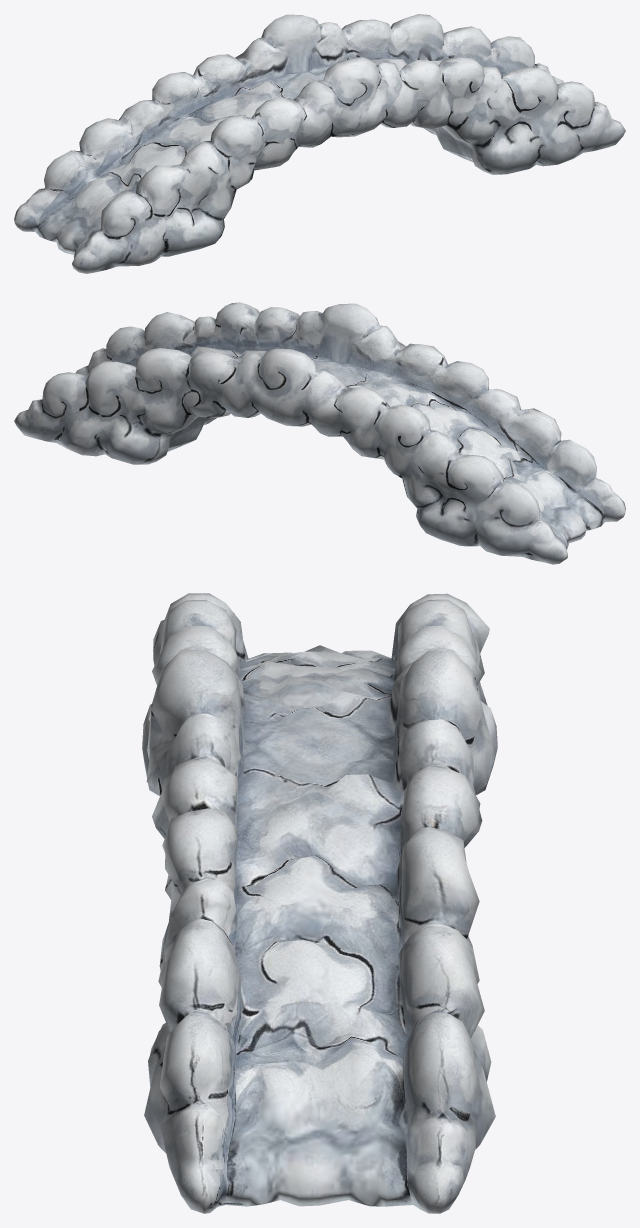
The model's file is ponte.glb.
The picture shows the model from 3 angles, top to bottom: view 1: azimuth 30°, elevation 25°; view 2: azimuth 150°, elevation 25°; view 3: azimuth 270°, elevation 25°; orthographic projection. The views are drawn at different scales.
Size of the model in its own units: 0.958 by 0.2456 by 0.2676.
1 material, 1 textured.
